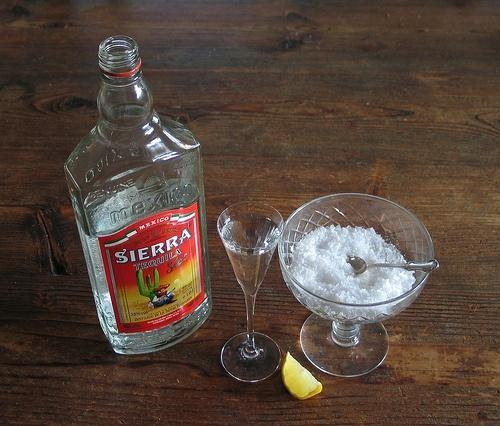bottle: (61, 30, 219, 360)
